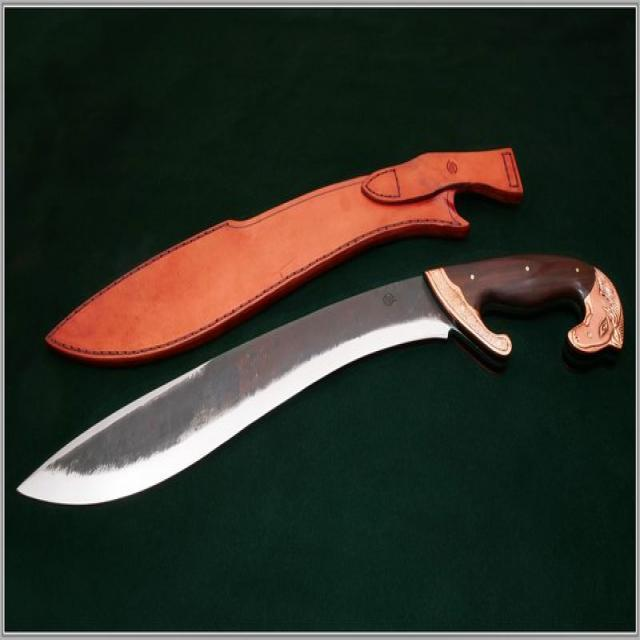short sword: (12, 251, 630, 530)
